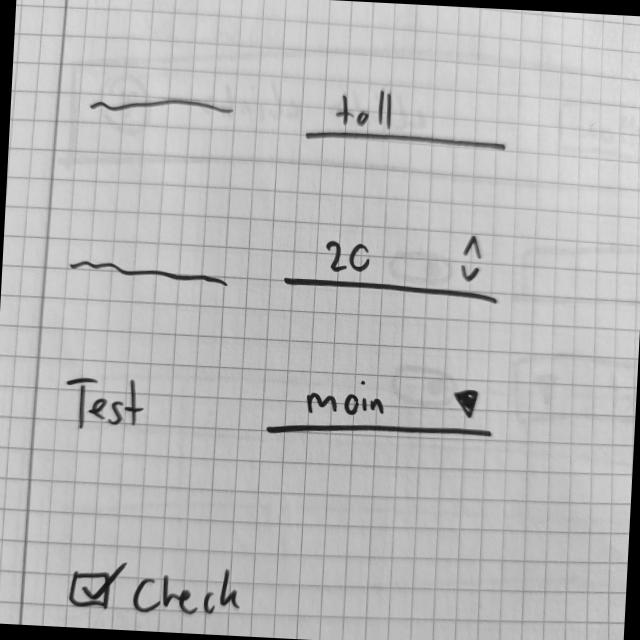checkbox: (67, 558, 249, 624)
input: (304, 86, 514, 153)
label: (61, 370, 149, 443)
number-input: (285, 222, 507, 310)
select: (264, 367, 499, 449)
text: (66, 256, 233, 292), (89, 92, 236, 125)
